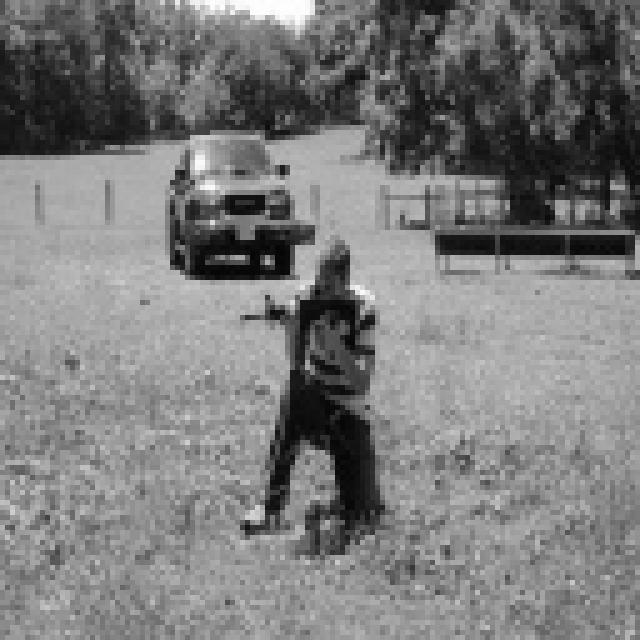Rifle: (223, 288, 381, 368)
